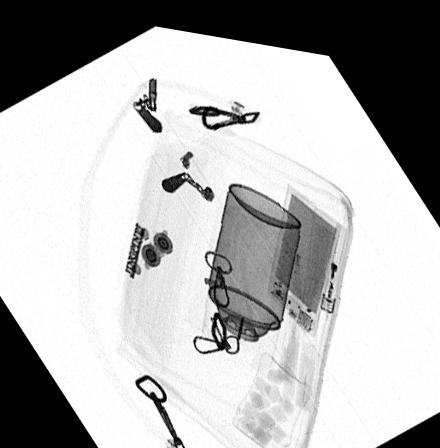Lighter: (318, 210, 348, 303)
Powerbank: (265, 173, 340, 328)
Sprayer: (201, 174, 301, 369)
